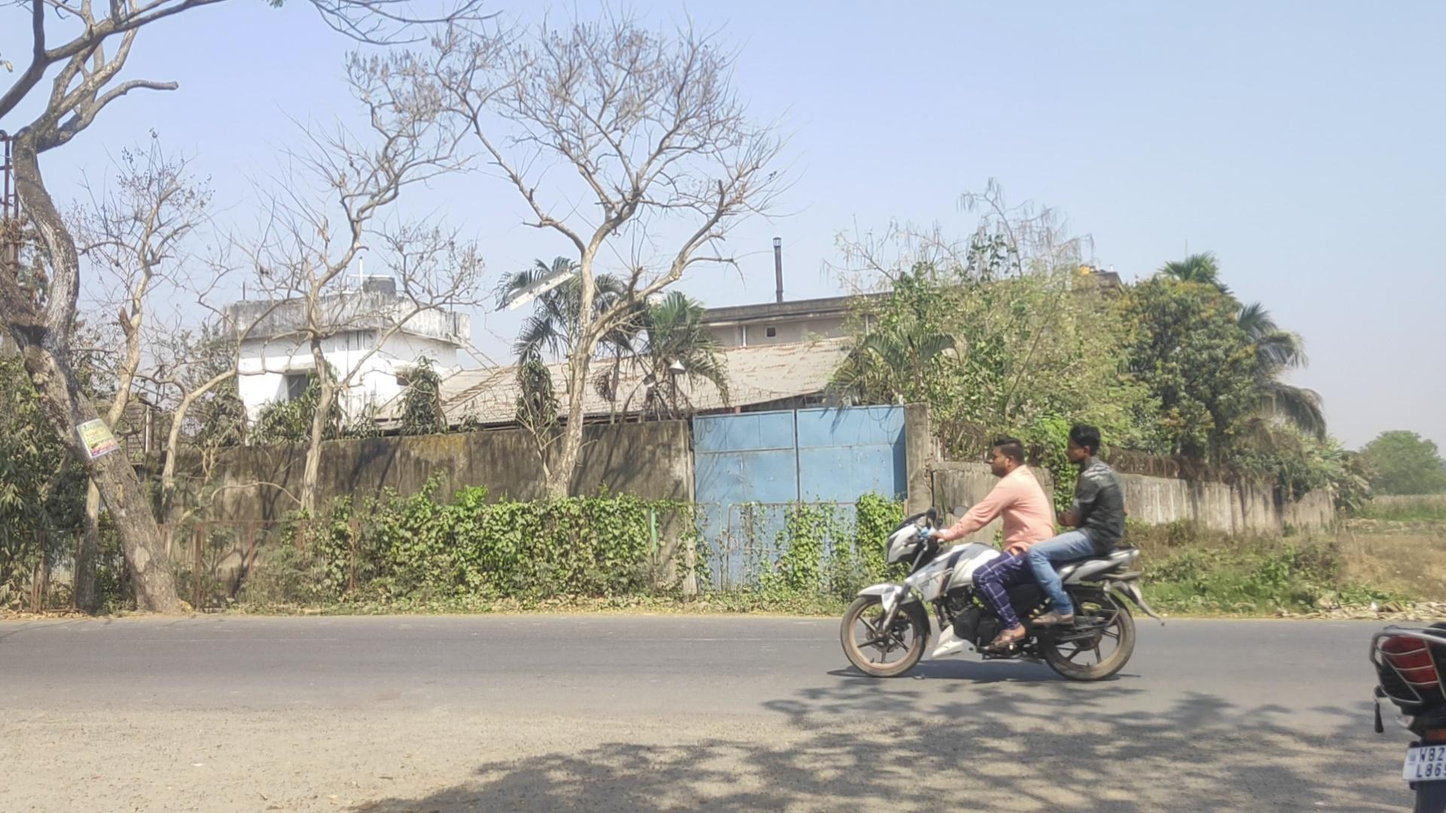bike: (839, 425, 1161, 683)
